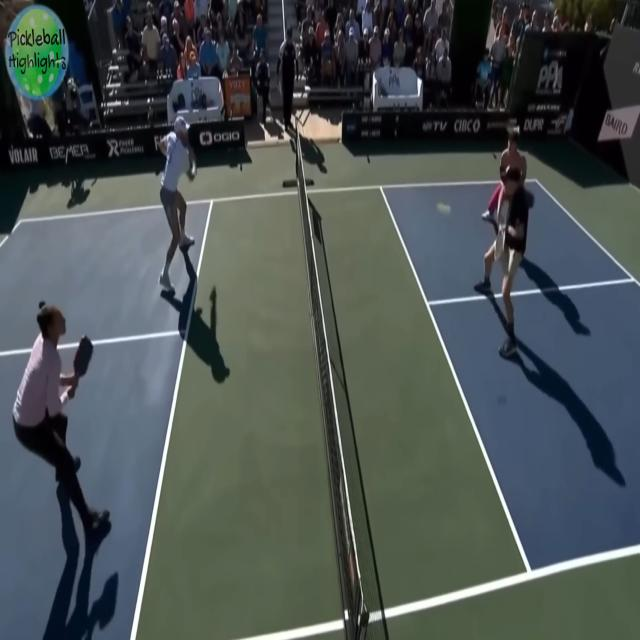ball: (435, 194, 452, 222)
